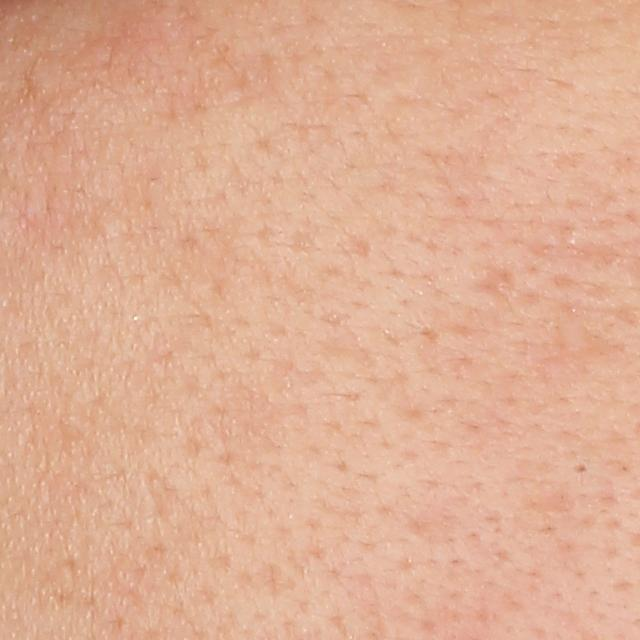atrophic_scar: (533, 304, 631, 385), (471, 260, 516, 296)
comedo: (91, 207, 126, 242), (567, 459, 594, 478)
